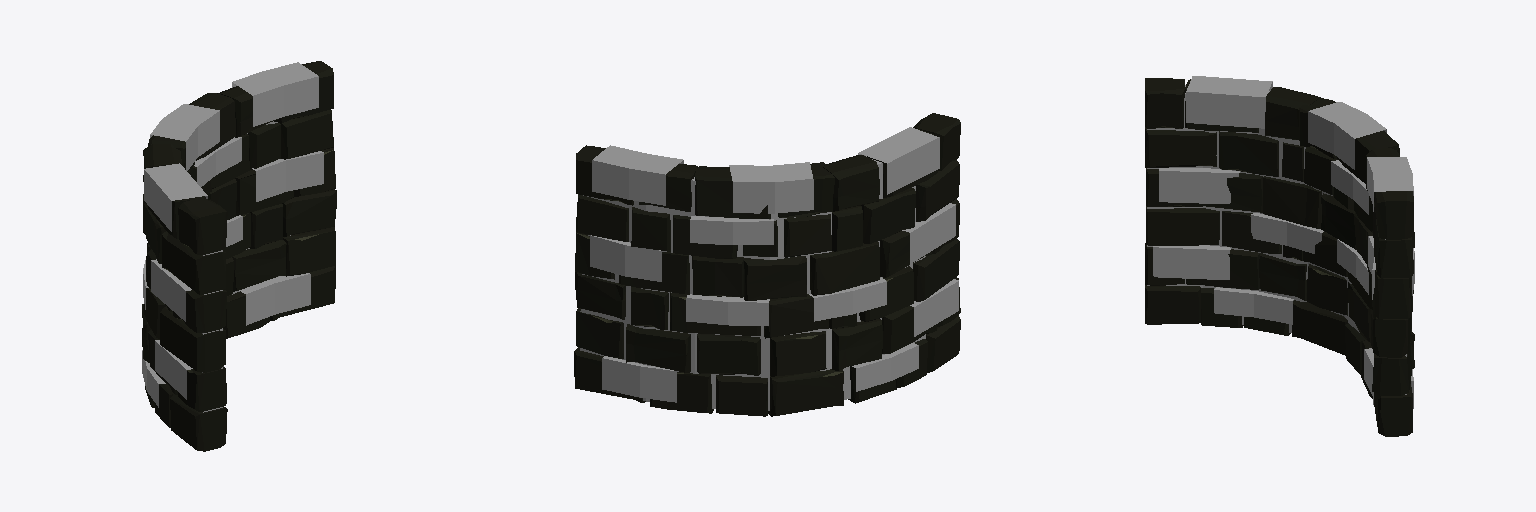
The model's file is Curve_1_Overgrown.obj.
The picture shows the model from 3 angles: view 1: azimuth 30°, elevation 25°; view 2: azimuth 150°, elevation 25°; view 3: azimuth 270°, elevation 25°; orthographic projection.
Visible parts, largest first — view 1: Curve_1_Overgrown_Cube.531; view 2: Curve_1_Overgrown_Cube.531; view 3: Curve_1_Overgrown_Cube.531.
Part boxes in pixels (x1,y1,x2,y2): Curve_1_Overgrown_Cube.531: (142, 61, 336, 451); Curve_1_Overgrown_Cube.531: (574, 113, 960, 416); Curve_1_Overgrown_Cube.531: (1145, 76, 1414, 436).
Bounding box in the file's own units: 2.3 × 2 × 2.07.